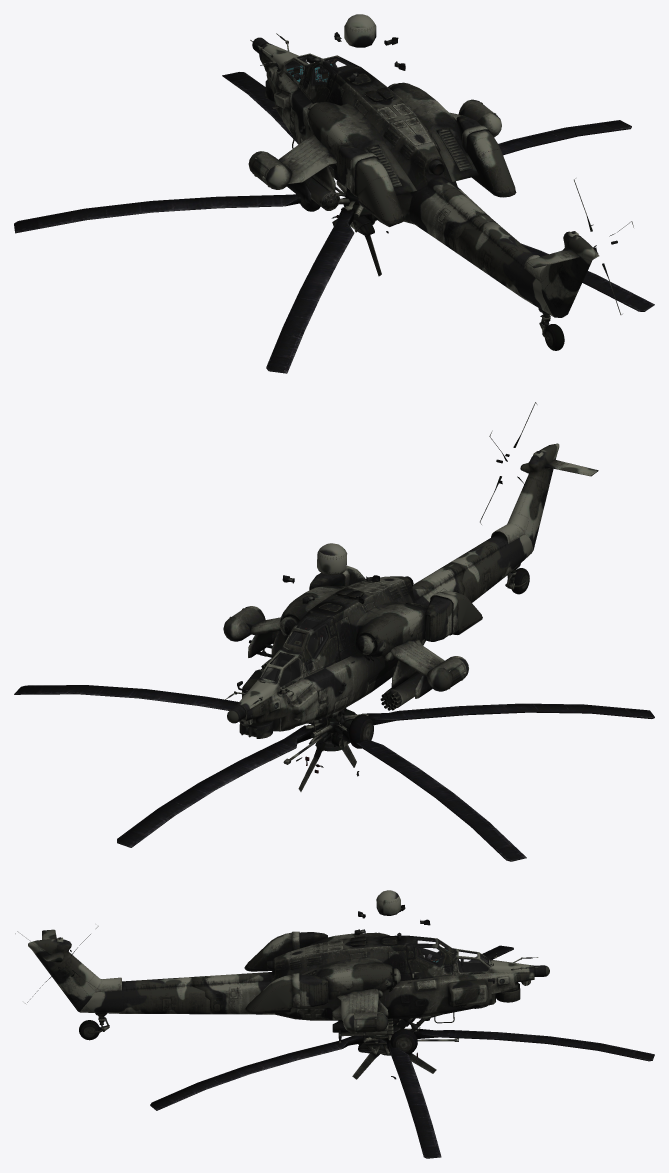
Rendered from heli_bulat.glb.
The picture shows the model from 3 angles, top to bottom: view 1: azimuth 30°, elevation 25°; view 2: azimuth 150°, elevation 25°; view 3: azimuth 270°, elevation 25°; orthographic projection. The views are drawn at different scales.
Visible parts, largest first — view 1: body, rotor_blades, gun; view 2: body, rotor_blades, rotor_hub; view 3: body, rotor_blades, gun, tail_blades.
Boxes of the visible parts, bbox=[...] form: body: bbox=[248, 14, 633, 350]; rotor_blades: bbox=[14, 72, 654, 373]; gun: bbox=[335, 187, 395, 236]; body: bbox=[223, 402, 598, 748]; rotor_blades: bbox=[14, 685, 654, 861]; rotor_hub: bbox=[296, 712, 368, 776]; body: bbox=[15, 890, 549, 1054]; rotor_blades: bbox=[150, 945, 654, 1158]; gun: bbox=[358, 1035, 458, 1054]; tail_blades: bbox=[352, 1018, 436, 1079].
Size of the model in its own units: 15.96 by 6.57 by 20.19.
3 materials, 2 textured.
